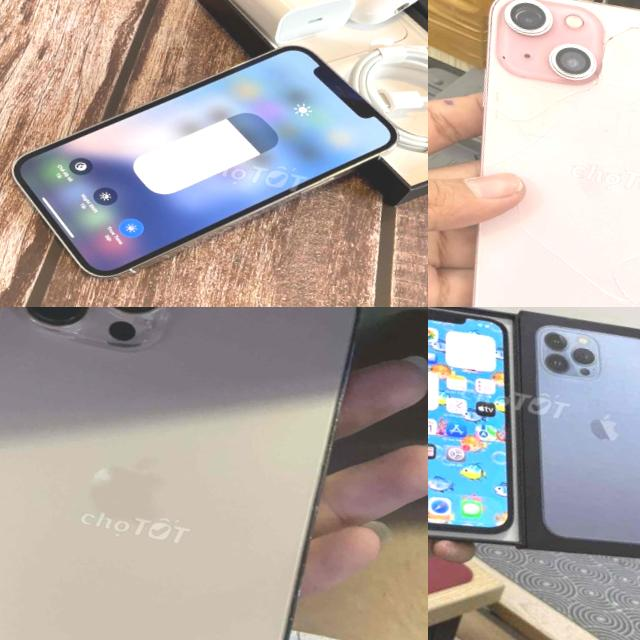physical_damage: (468, 69, 612, 193), (495, 198, 640, 307), (587, 8, 640, 118)
scratch: (490, 46, 522, 74)
